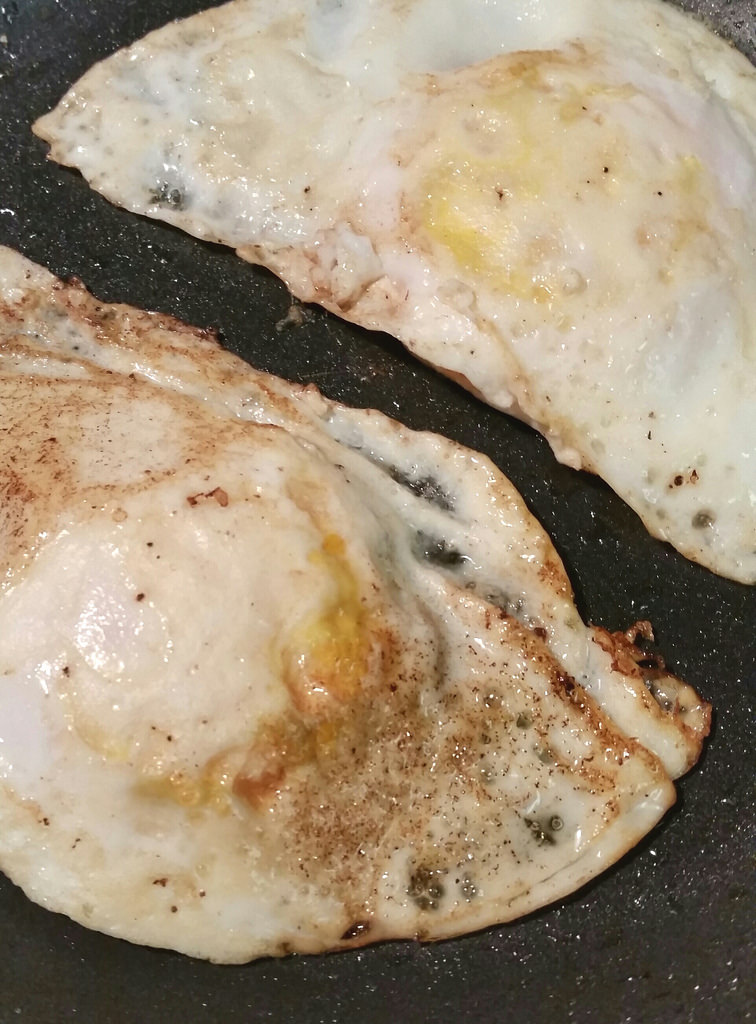fried egg: (24, 318, 645, 918), (166, 25, 751, 512)
